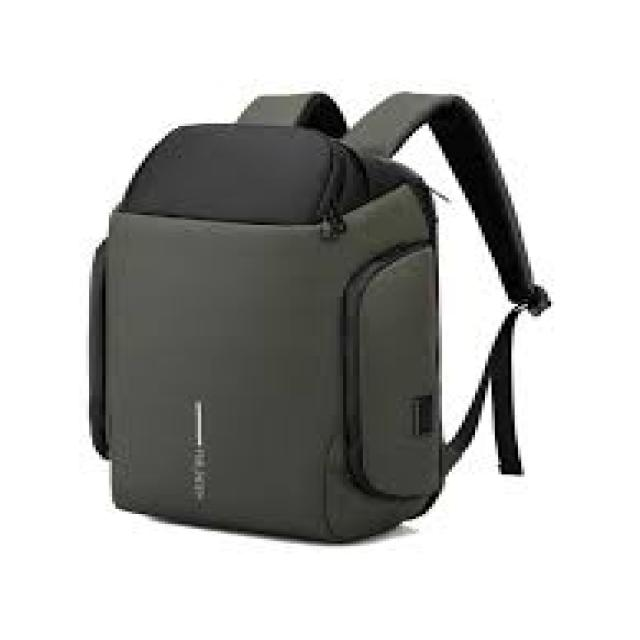backpack: (87, 90, 552, 545)
